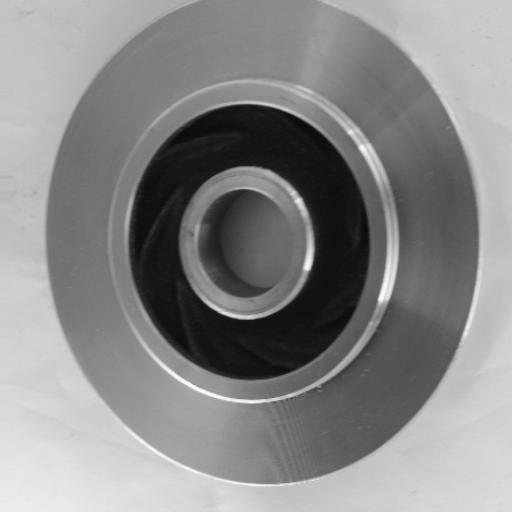polished_casting: (45, 1, 484, 488)
